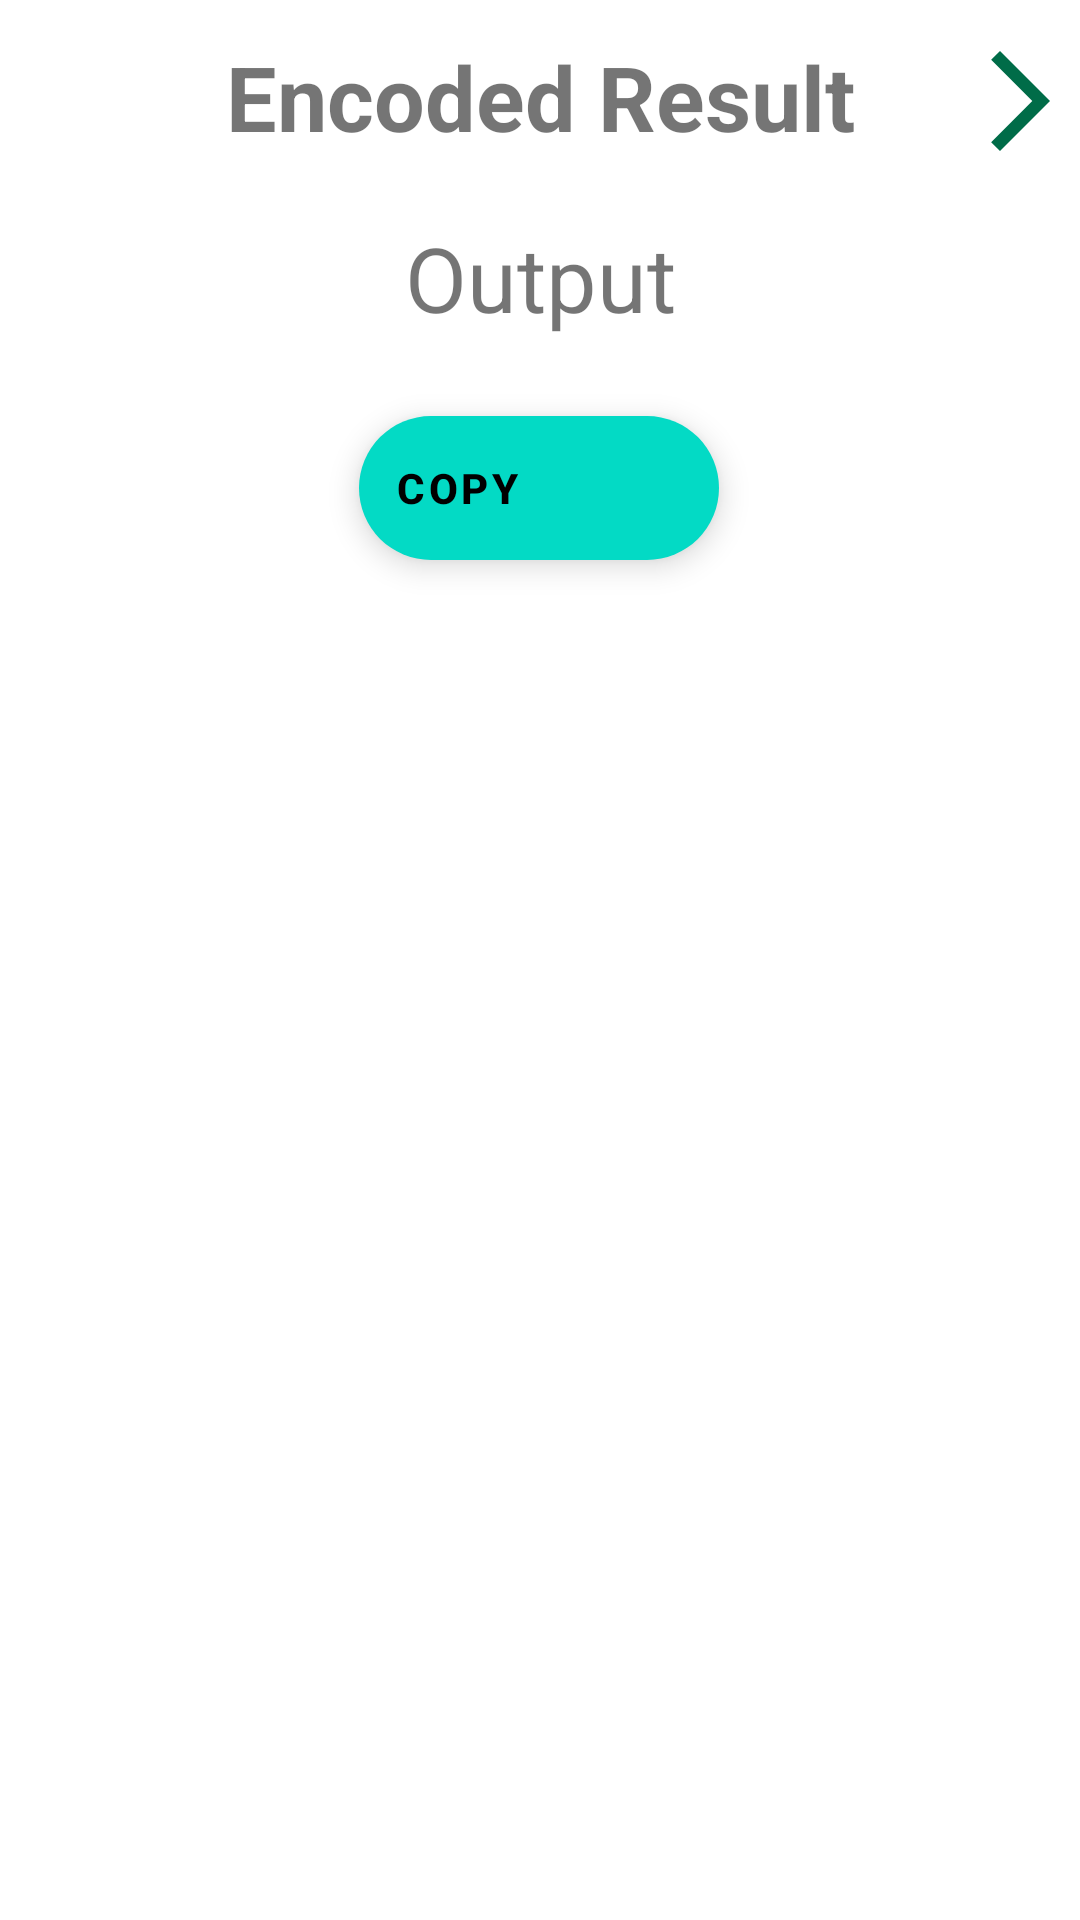

Icon bounding boxes for this 1080*1920 phone screenshot, format (x1=x1, y1=y1, x2=x2, y2=y2):
right: (x1=991, y1=51, x2=1050, y2=151)
